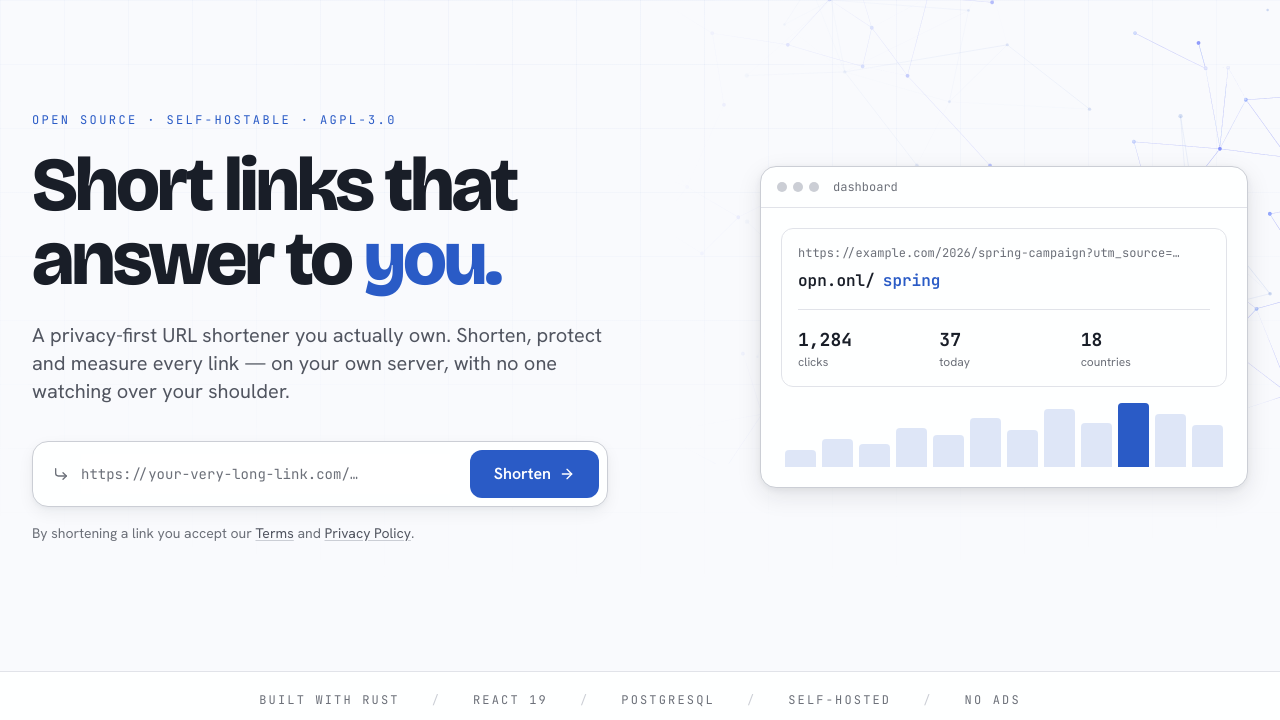
Test case: Home Page › shows the rate-limit message, not the generic error
In the field with placeholder "https://your-very-long-link.com/…": (265, 474) [81, 454, 450, 494], type "https://example.com/test"
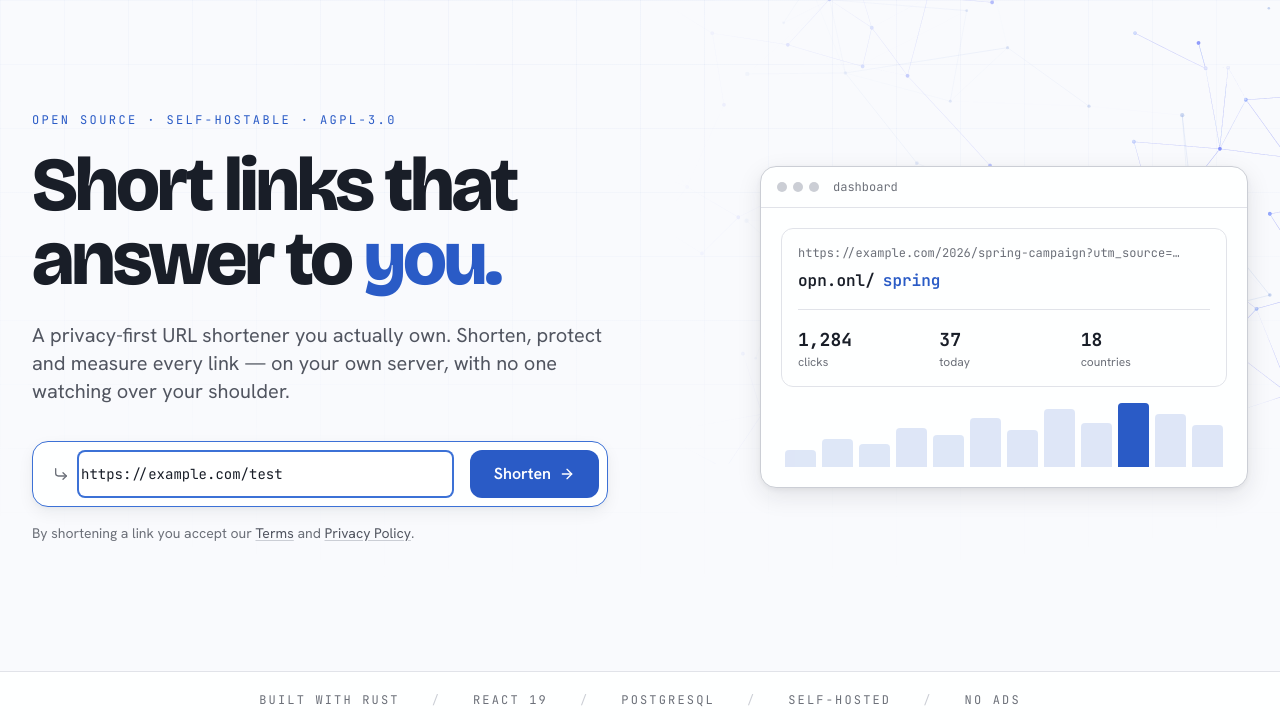
Click the button "Shorten": (534, 474) [470, 450, 599, 498]
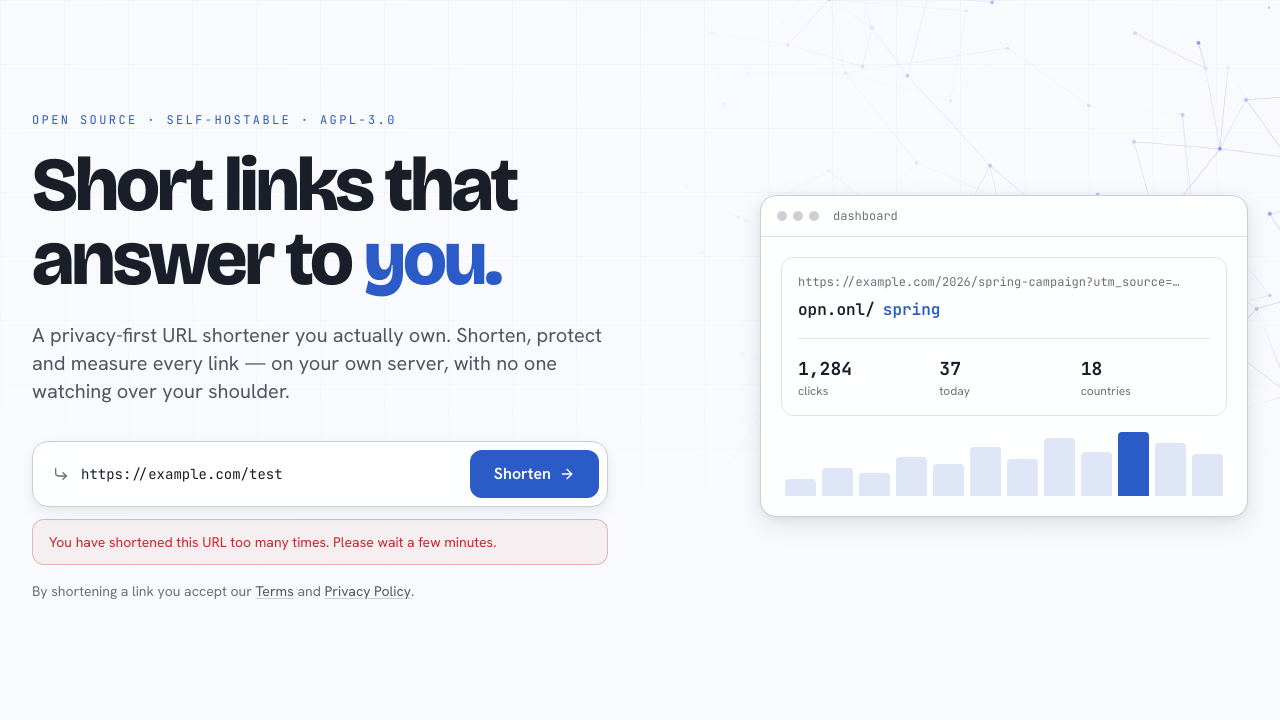
expect the text "You have shortened this URL too many times. Please wait a few minutes." is shown: met, box [32, 519, 608, 565]
